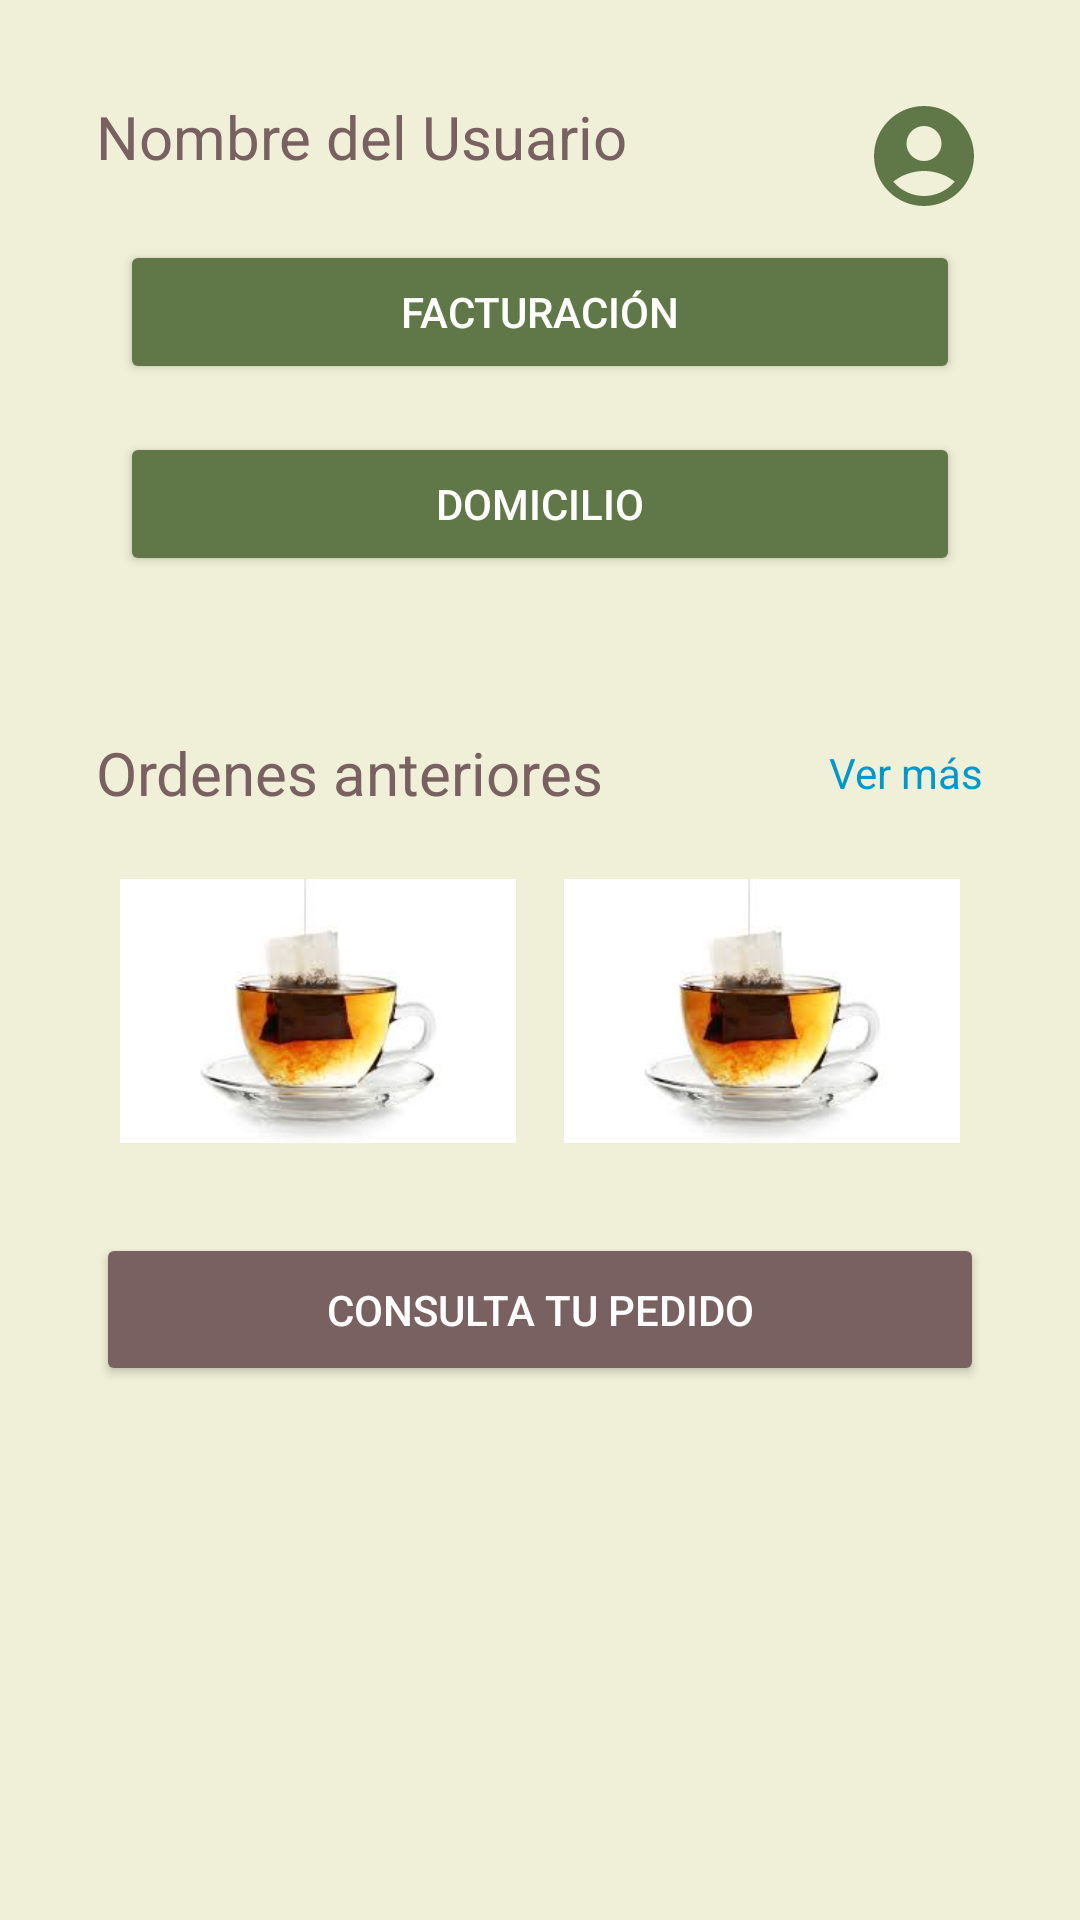

Named icons in this screenshot (1080×1920) and their centers, (x,y):
user: (924,156)
